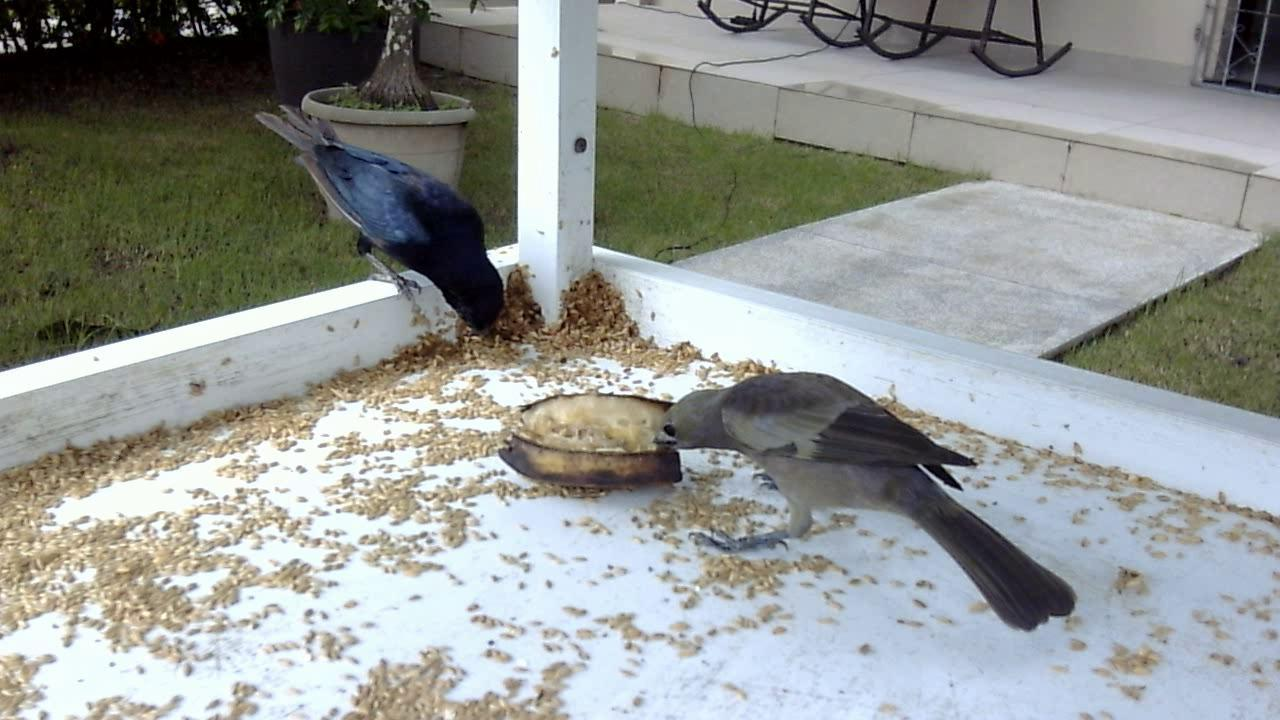chupim: (255, 94, 507, 348)
sanhaco_do_coqueiro: (655, 345, 1084, 650)
